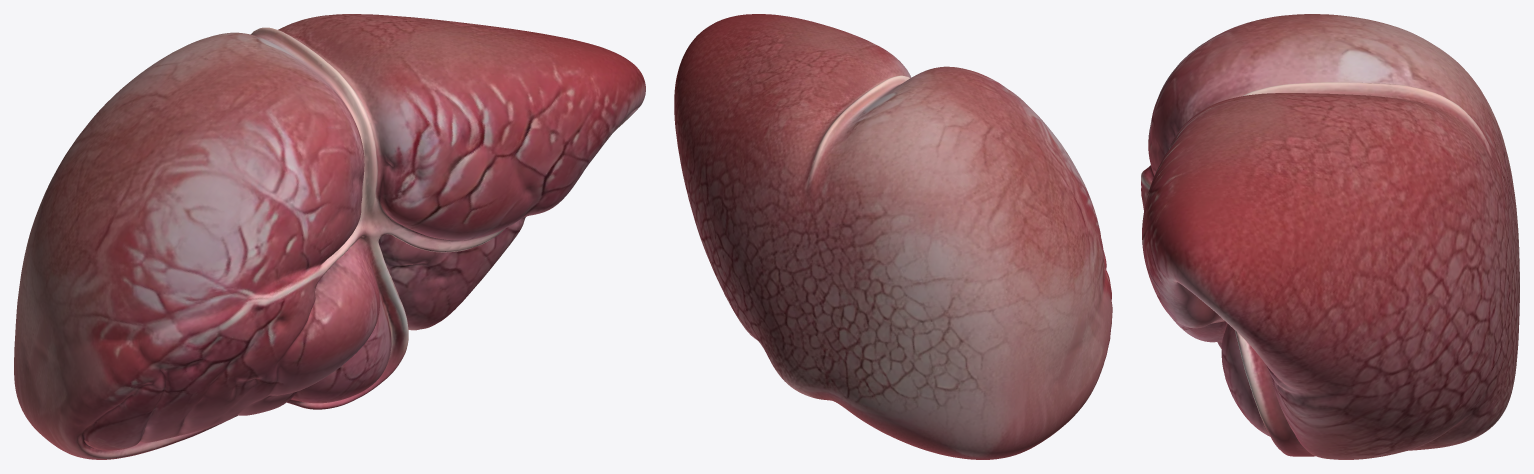
The model's file is vet_v2_path_liver-cirrhosis.glb.
3 views of the same model, side by side, from view 1: azimuth 30°, elevation 25°; view 2: azimuth 150°, elevation 25°; view 3: azimuth 270°, elevation 25° (orthographic). The views are drawn at different scales.
Visible parts, largest first — view 1: model; view 2: model; view 3: model.
Boxes of the visible parts, box(x1,y1,x2,y2) form: model: box(14, 14, 645, 459); model: box(674, 14, 1112, 459); model: box(1141, 14, 1519, 459).
Size of the model in its own units: 1.9 by 1.28 by 1.08.
1 material, 1 textured.
